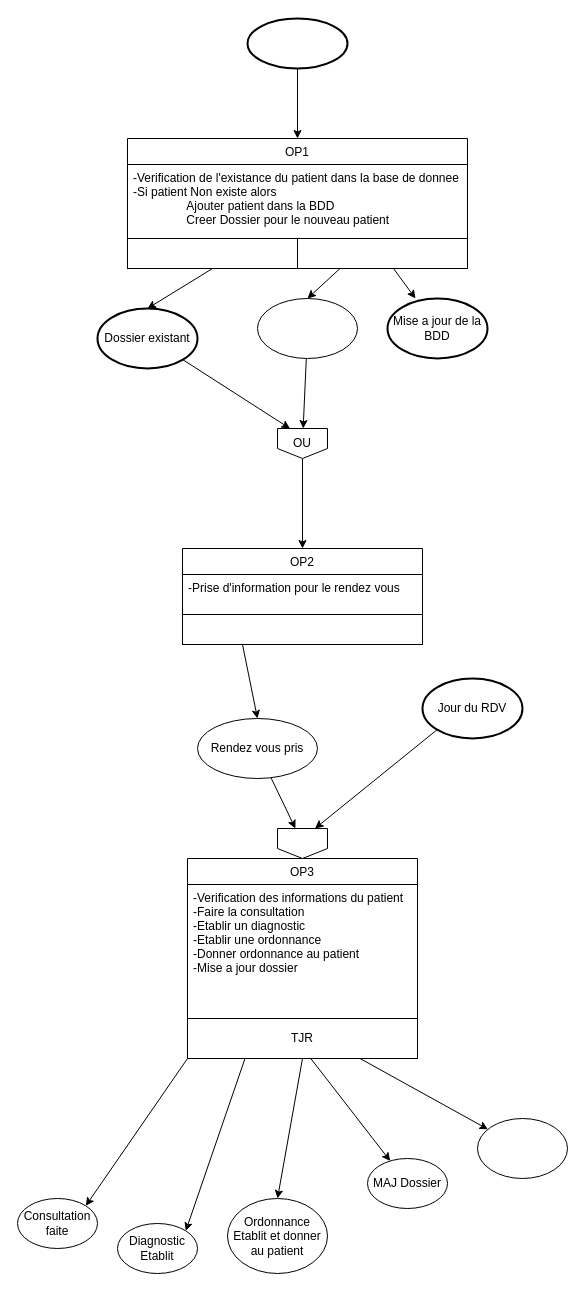
The diagram is 585 pixels wide and 1291 high, and some of its shapes have lost their labels. Here are the shapes that lost their labels. From the top down, the box of each, then its label:
(246, 17, 348, 69): Appelle d'un patient malade
(126, 238, 298, 268): Existe
(296, 238, 468, 268): Non existe
(256, 298, 358, 358): Dossier creer
(182, 614, 422, 644): Toujours
(276, 828, 328, 858): ET
(476, 1118, 568, 1178): Dossier cree
